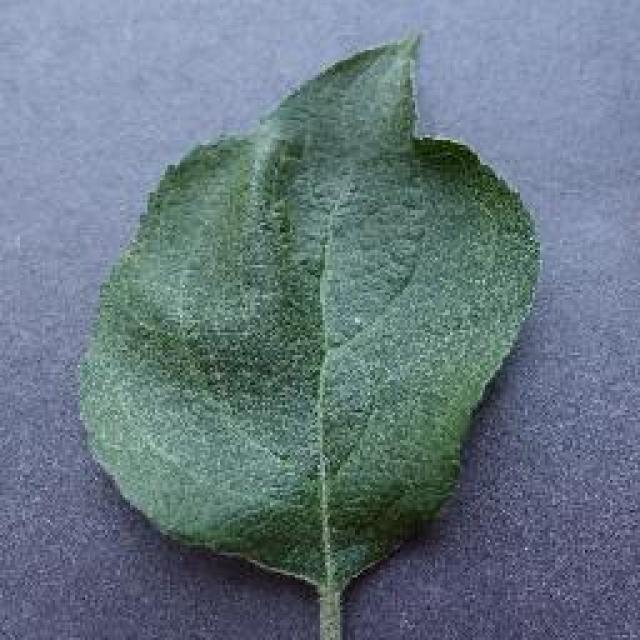apple healthy: (75, 30, 543, 635)
